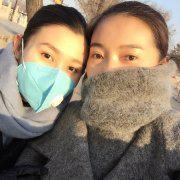OK: (20, 37, 90, 107)
WRONG: (88, 43, 166, 121)
